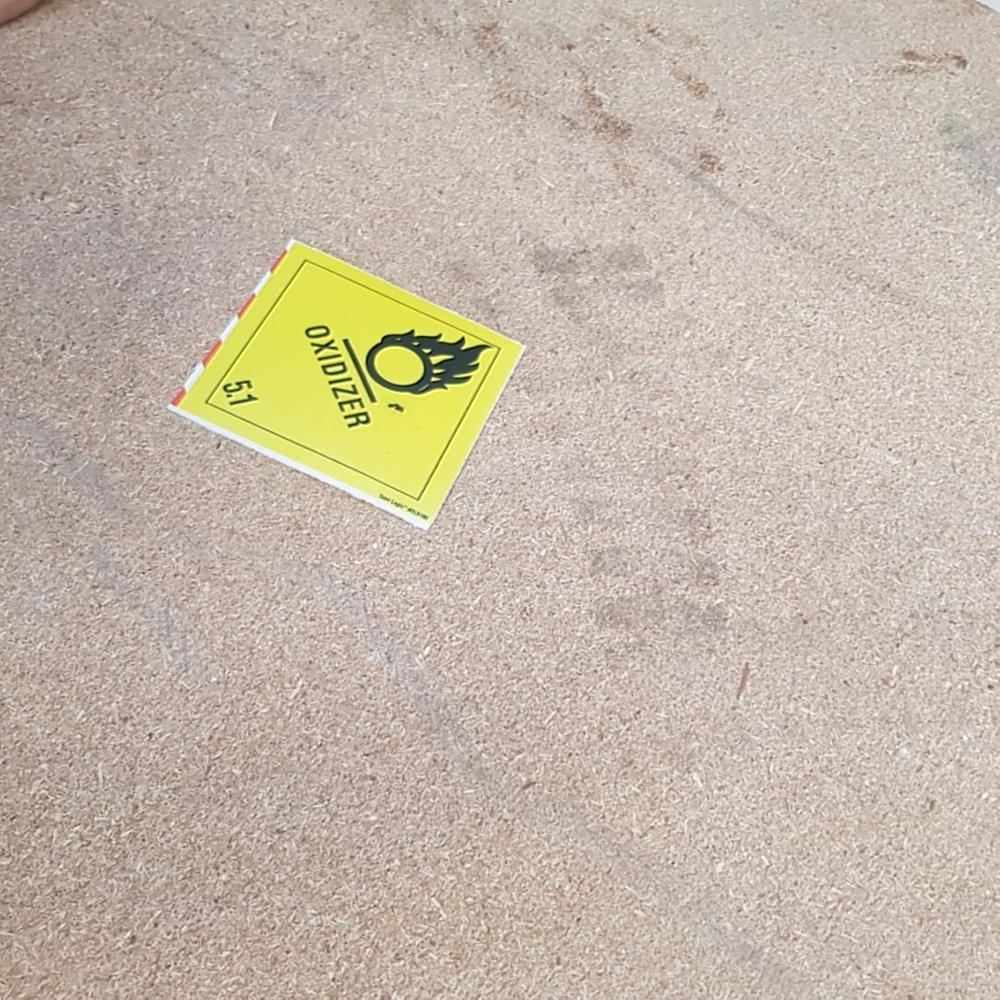oxidizer: (159, 242, 535, 531)
